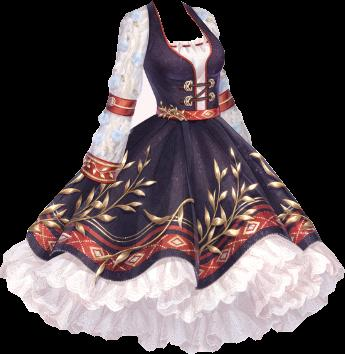Bodice: (143, 1, 224, 120)
Hemline: (0, 252, 341, 319), (23, 232, 322, 291)
Neckline: (151, 0, 205, 45), (167, 39, 199, 110), (201, 34, 211, 110), (156, 102, 218, 111)
Skirt: (0, 111, 344, 353)
Sleeve: (80, 5, 148, 181)
Sleeveline: (141, 4, 151, 69)
Waistline: (155, 112, 220, 122)
